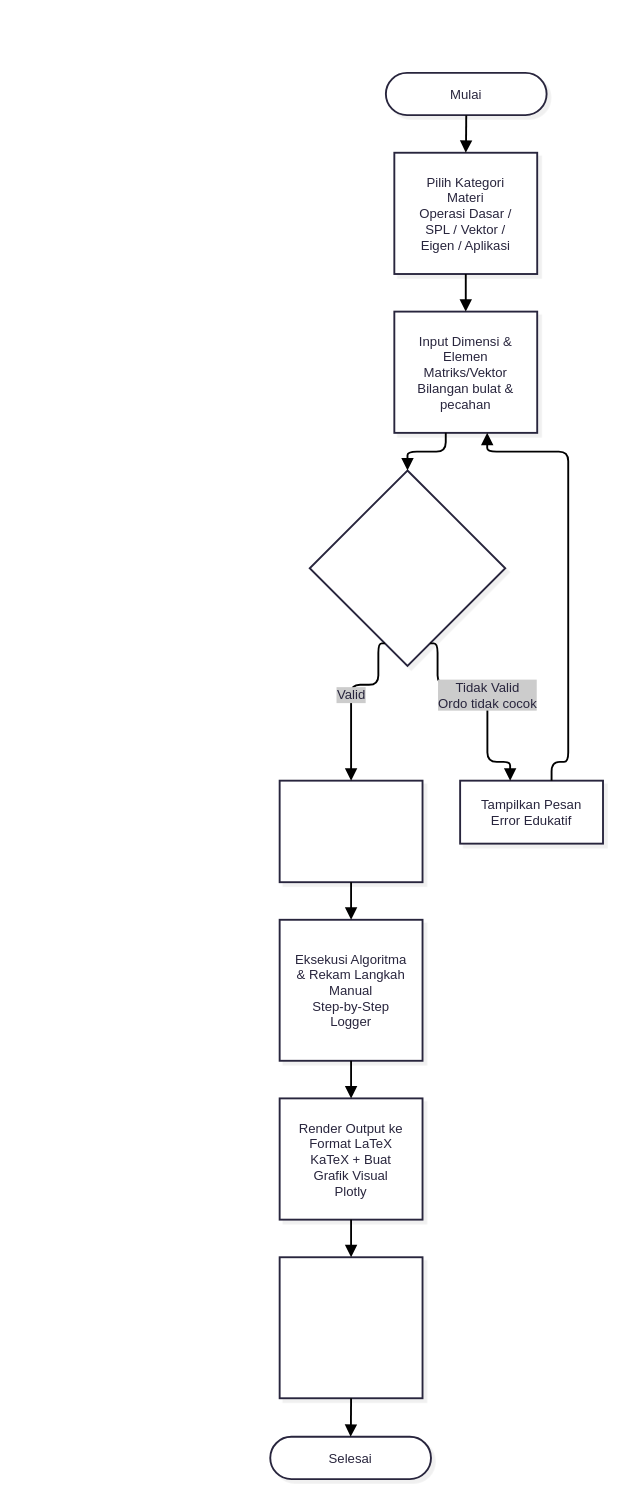
The diagram is 623 pixels wide and 1499 high, and some of its shapes have lost their labels. Each missing label, with the centre of its shape:
"Konversi Input ke Tipe Pecahan Eksak SymPy Rational" belongs at point (352, 832).
"Tampilkan: 1. Jawaban Akhir 2. Langkah Manual 3. Visualisasi Grafik" belongs at point (352, 1329).
"Validasi Aturan Matematika" belongs at point (408, 569).
